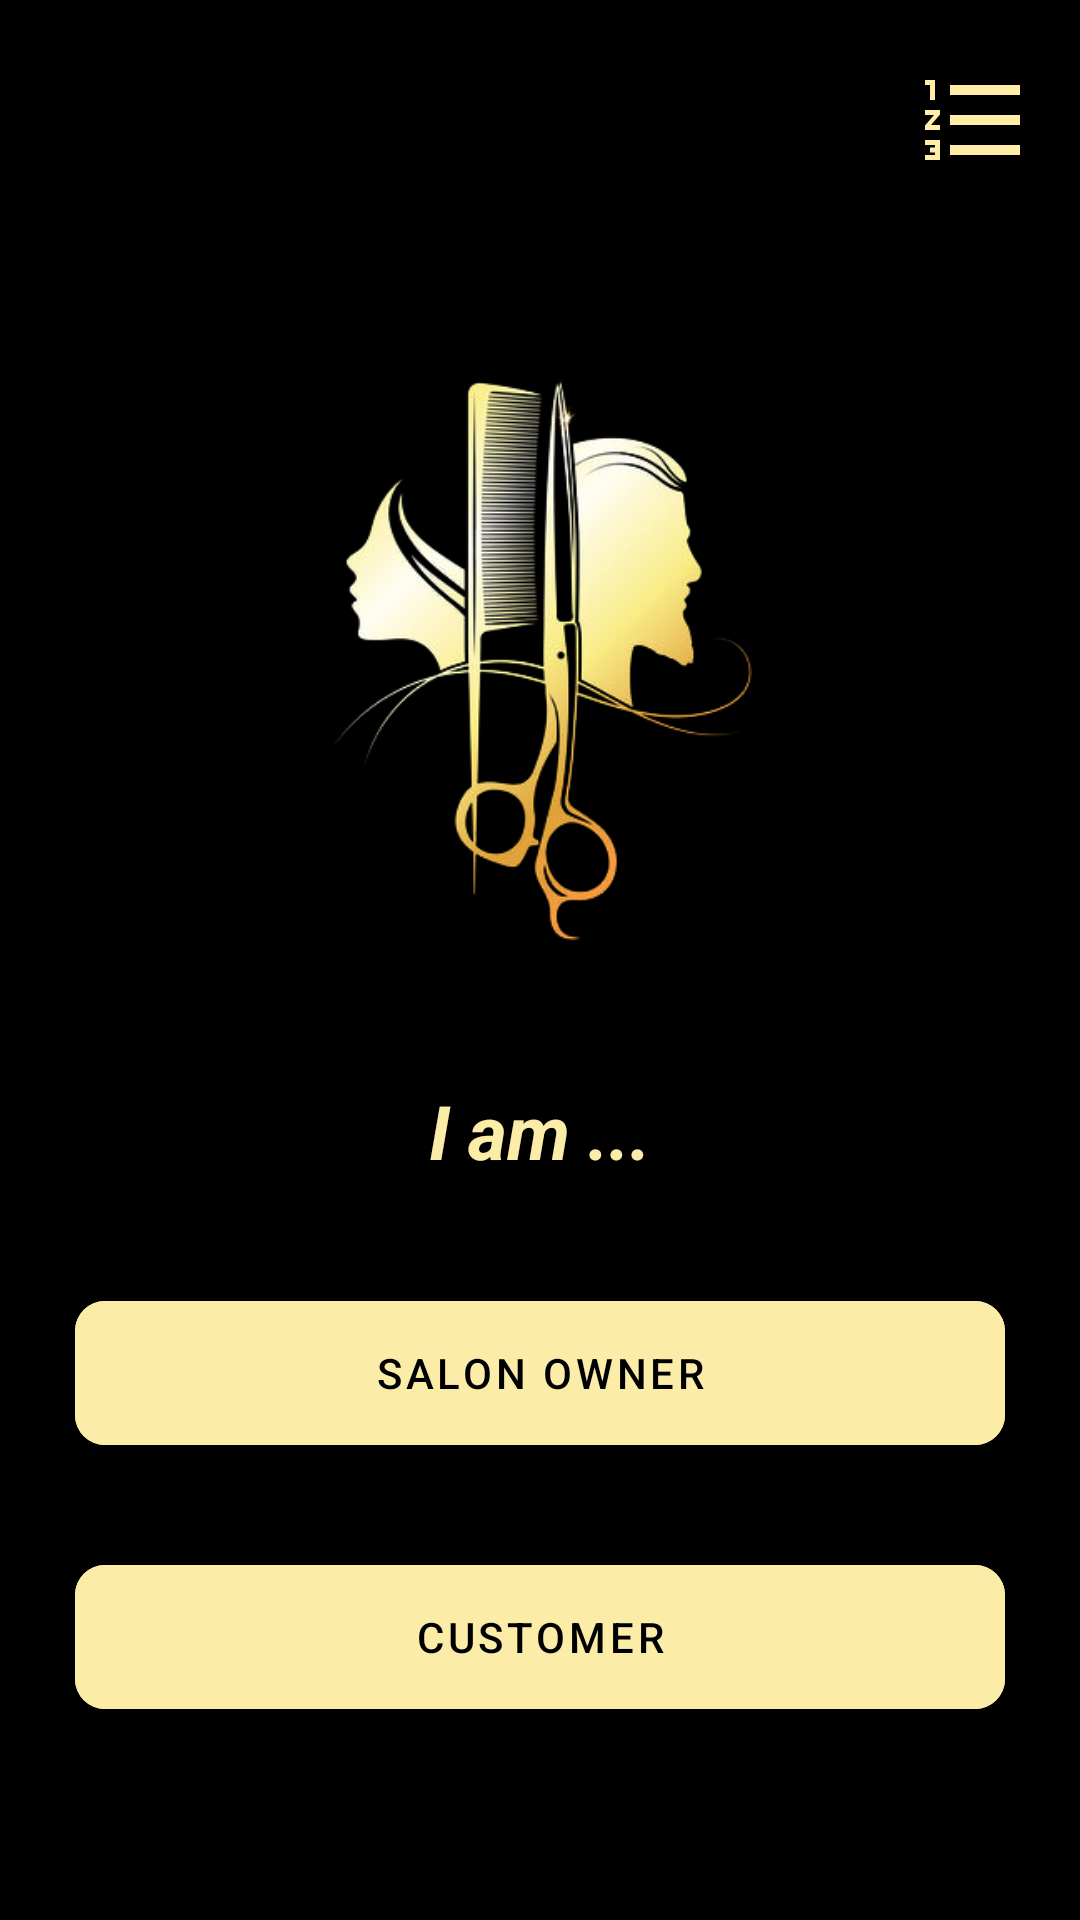

Icons on this 1080px x 1920px Android screen, each with its box as [x1, y1, x2, y2]:
menu: [925, 80, 1020, 160]
